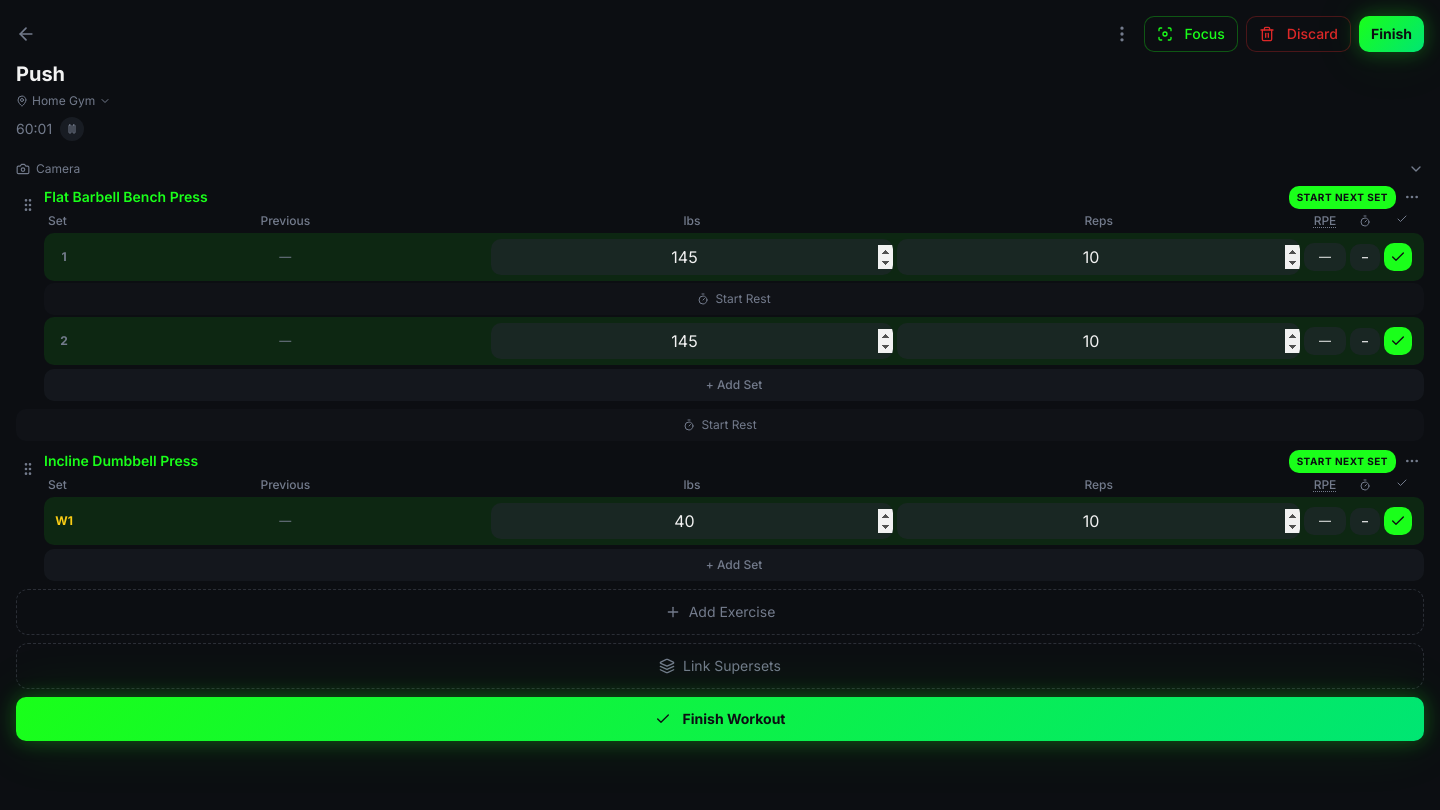
Scenario: update-template prompt at finish › treats an exercise that got no further than its warm-up as skipped
Later steps or results of the test are not shown.
Click the button "Finish". click: [1391, 34]
box: [1359,16,1424,52]
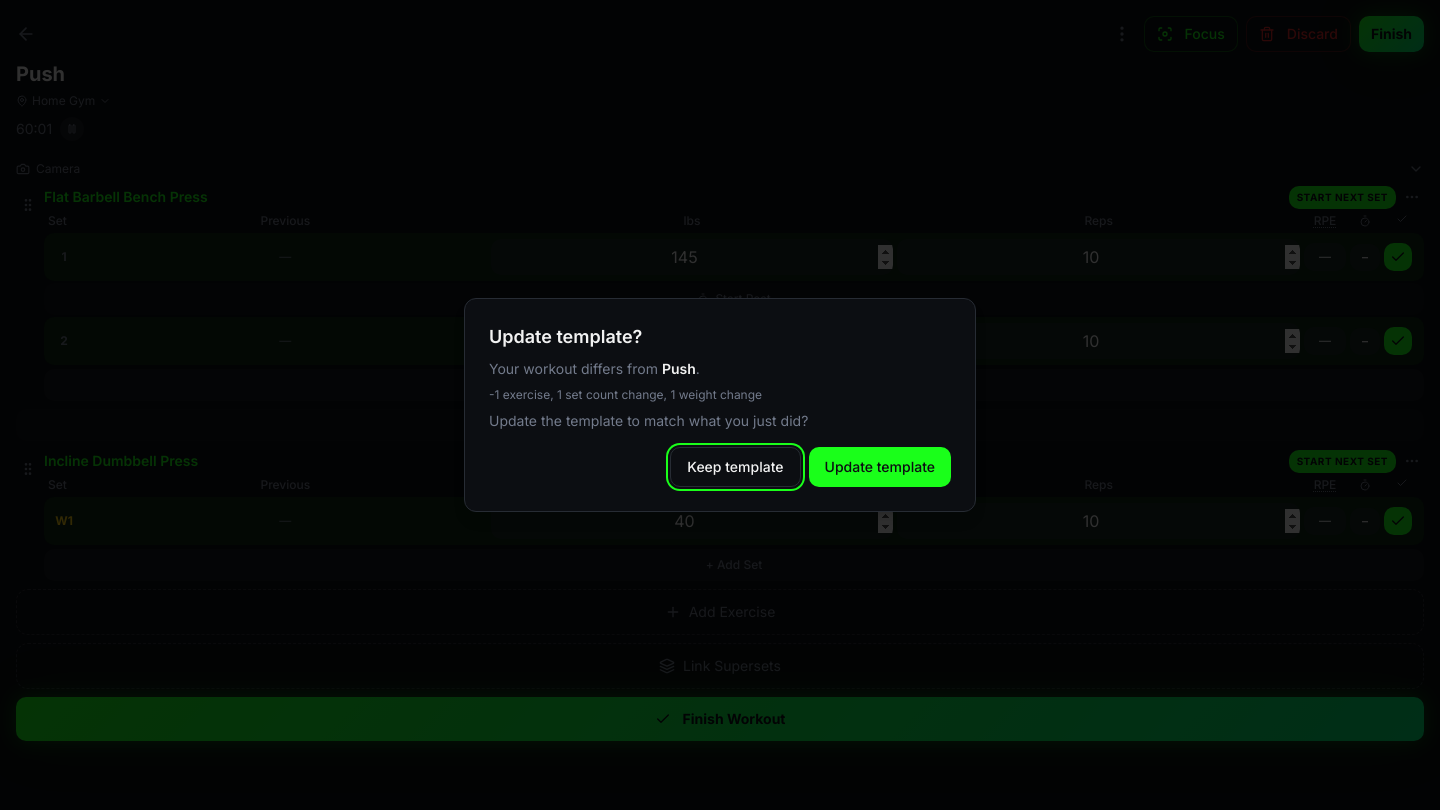
Now the text "-1 exercise, 1 set count change, 1 weight change" is shown, box [489,387,762,402]
